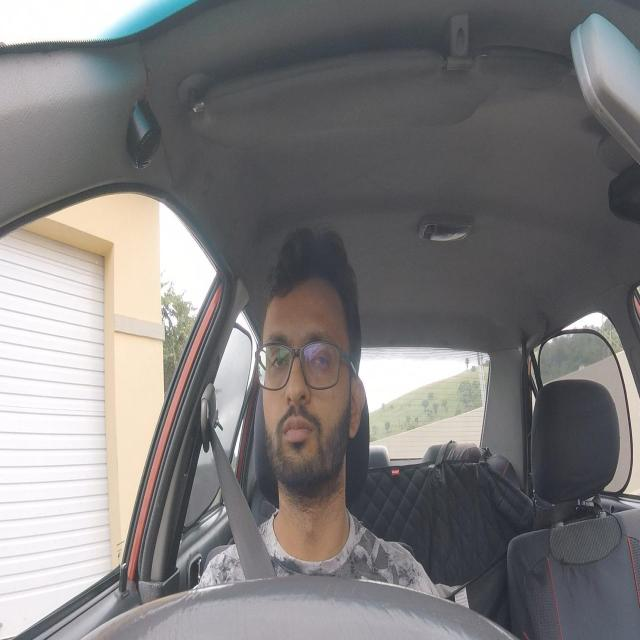open: (299, 327, 337, 382), (261, 331, 294, 391)
